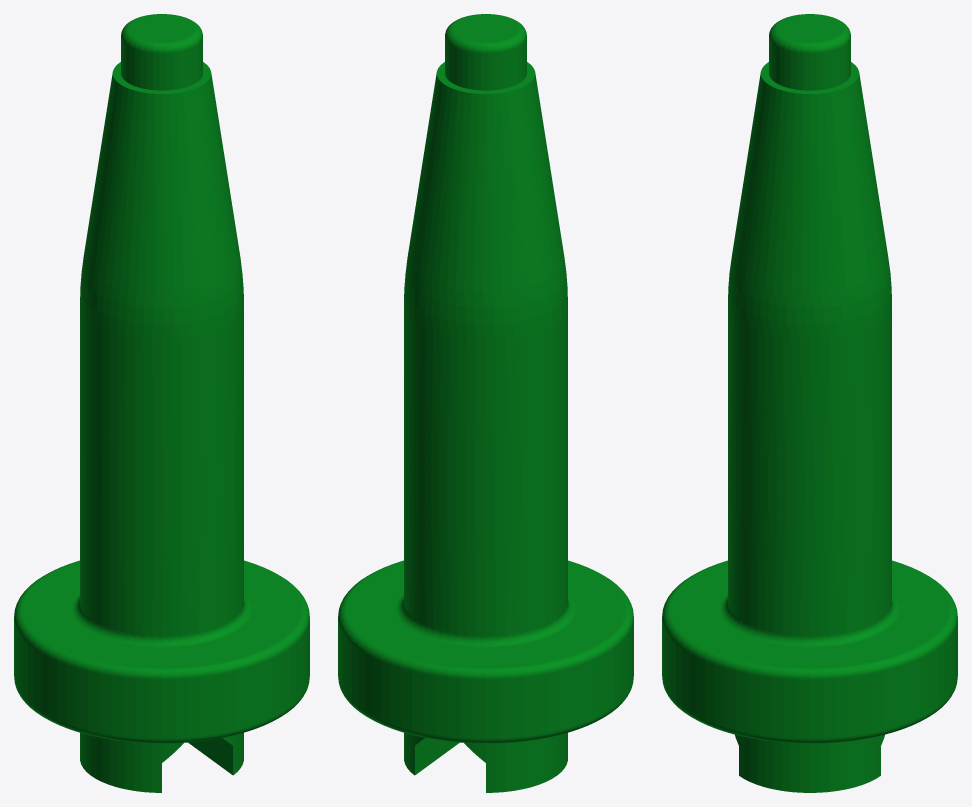
File: GreenSurmark.dae
3 views of the same model, side by side, from view 1: azimuth 30°, elevation 25°; view 2: azimuth 150°, elevation 25°; view 3: azimuth 270°, elevation 25° (orthographic).
Parts seen in each view (by area): view 1: RedSurmark; view 2: RedSurmark; view 3: RedSurmark.
Boxes of the visible parts, <box> form: RedSurmark: <box>14,14,309,792</box>; RedSurmark: <box>338,14,633,792</box>; RedSurmark: <box>662,14,957,792</box>.
Size of the model in its own units: 457 by 457 by 1245.
